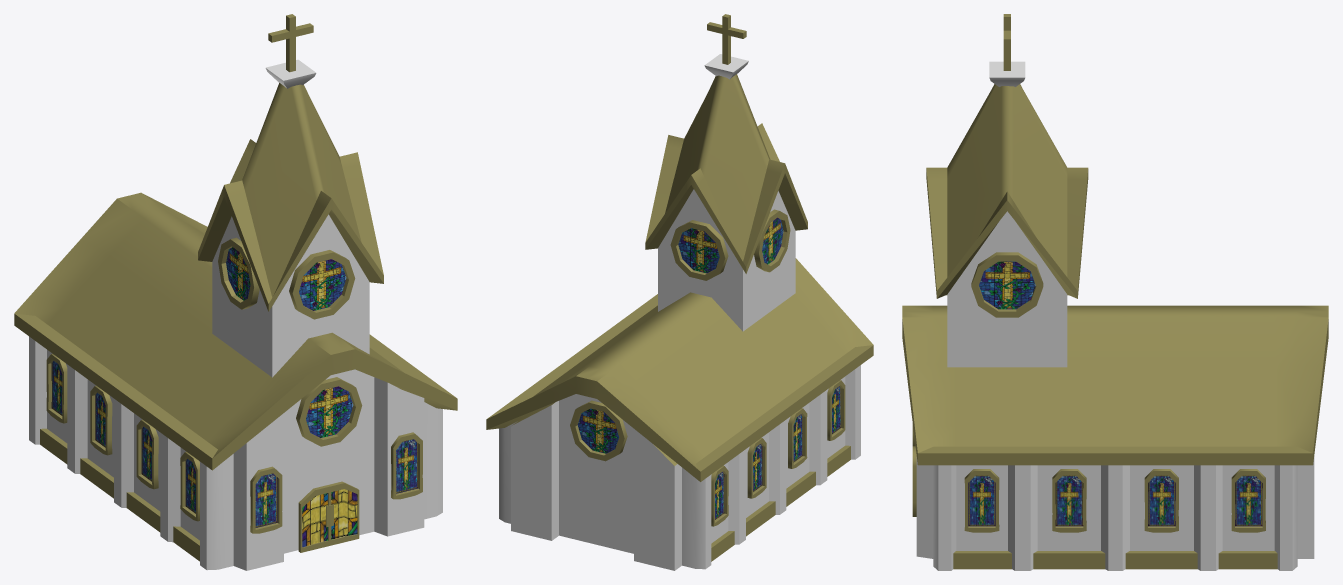
The model's file is Building_Church_Mod_01.fbx.
The picture shows the model from 3 angles, left to right: view 1: azimuth 30°, elevation 25°; view 2: azimuth 150°, elevation 25°; view 3: azimuth 270°, elevation 25°; orthographic projection. The views are drawn at different scales.
Parts seen in each view (by area): view 1: Church2, Steeple, StainGlassWindowsRound, StainGlassWindows3, StainGlassWindowRound, StainGlassWindow1, StainGlassWindow, ChurchDoorLeft, Cross, ChurchDoorRight; view 2: Church2, Steeple, StainGlassWindowsRound, StainGlassWindows3, StainGlassWindowRound1, Cross; view 3: Church2, Steeple, StainGlassWindows3, StainGlassWindowsRound, Cross.
Part boxes in pixels (x1,y1,x2,y2): Church2: (14, 192, 457, 570); Steeple: (198, 83, 383, 377); StainGlassWindowsRound: (218, 237, 355, 319); StainGlassWindows3: (46, 353, 199, 521); StainGlassWindowRound: (296, 377, 362, 446); StainGlassWindow1: (250, 466, 282, 533); StainGlassWindow: (391, 432, 422, 499); ChurchDoorLeft: (298, 485, 330, 552); Cross: (265, 14, 316, 88); ChurchDoorRight: (328, 481, 359, 545); Church2: (486, 258, 873, 570); Steeple: (645, 74, 807, 331); StainGlassWindowsRound: (670, 209, 790, 280); StainGlassWindows3: (711, 380, 845, 526); StainGlassWindowRound1: (570, 400, 627, 461); Cross: (704, 14, 748, 79); Church2: (902, 305, 1328, 570); Steeple: (926, 84, 1088, 367); StainGlassWindows3: (964, 469, 1265, 532); StainGlassWindowsRound: (946, 252, 1068, 317); Cross: (989, 14, 1025, 86).
Size of the model in its own units: 12.29 by 23.95 by 18.55.
